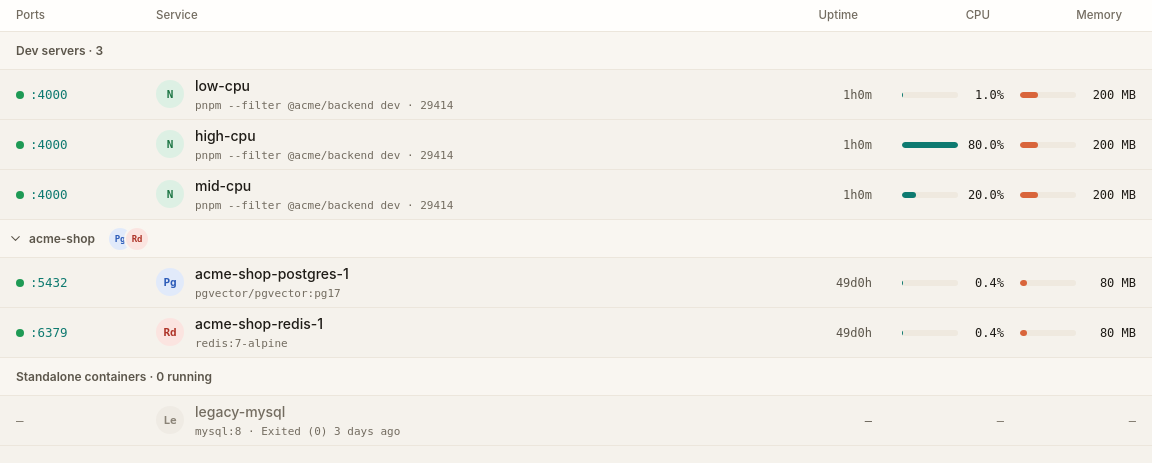
ServiceTable › orders process rows by CPU on header click, desc then asc
Click the button "CPU": (985, 16) [966, 7, 1004, 24]
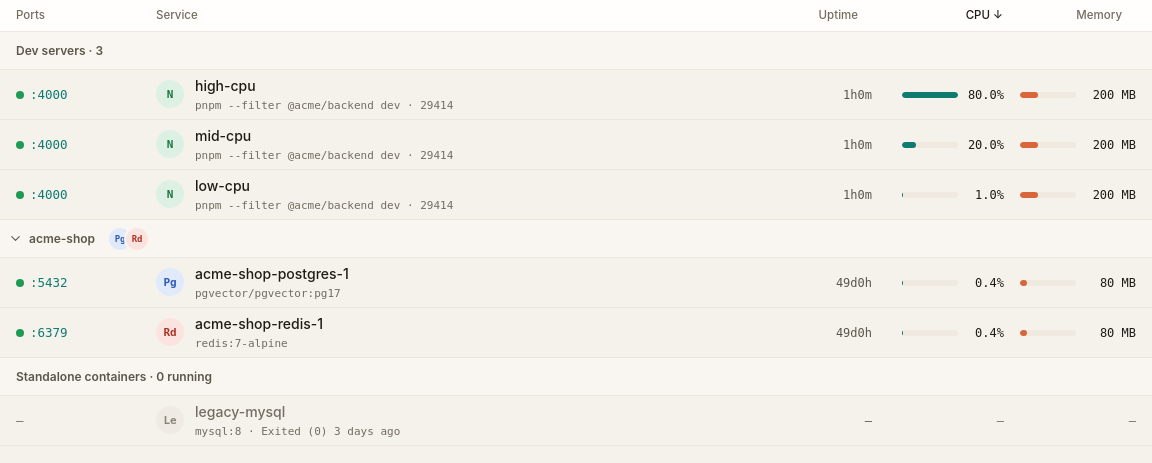
expect the button "CPU ↓" is shown: met
Click the button "CPU ↓": (985, 16) [966, 7, 1004, 24]
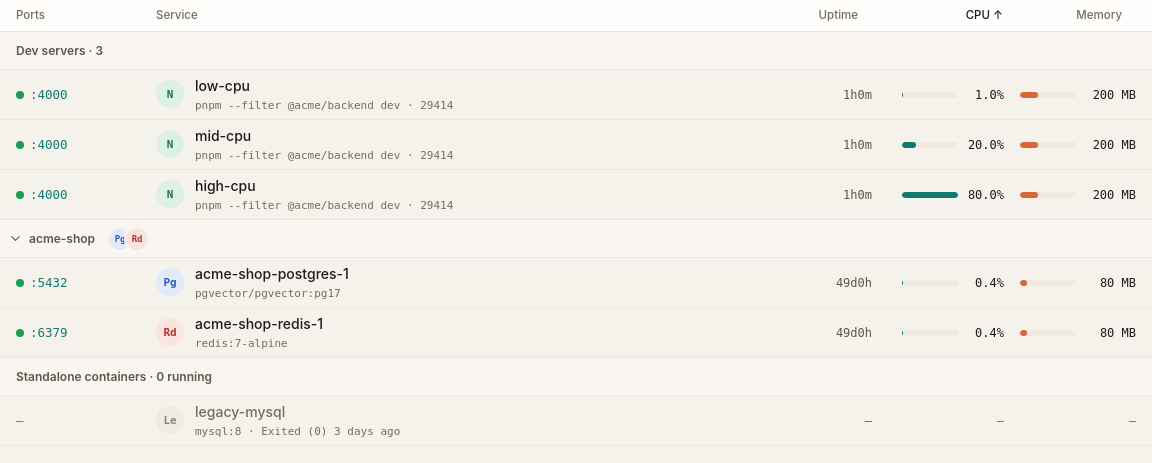
expect the button "CPU ↑" is shown: met, box [966, 7, 1004, 24]
